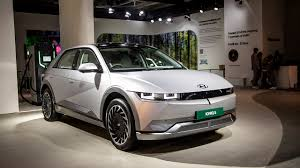Honda Ioniq: (35, 38, 251, 153)
